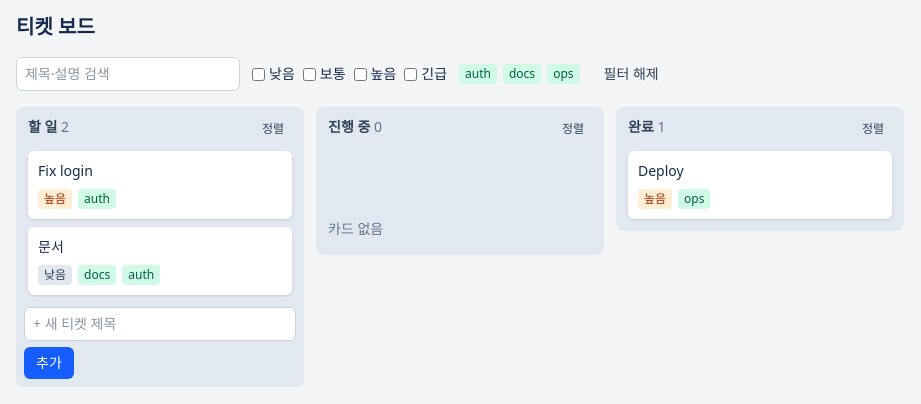
필터 바 (UI-C09) › TC-UI-049: 필터 해제를 누르면 모든 조건이 지워지고 전체 목록으로 돌아온다
Expected: the text "Fix login" is shown, [38,161,93,181]
Type "login" into the search field named "검색어".
click(128, 74); type("login")  # box [16,57,240,91]
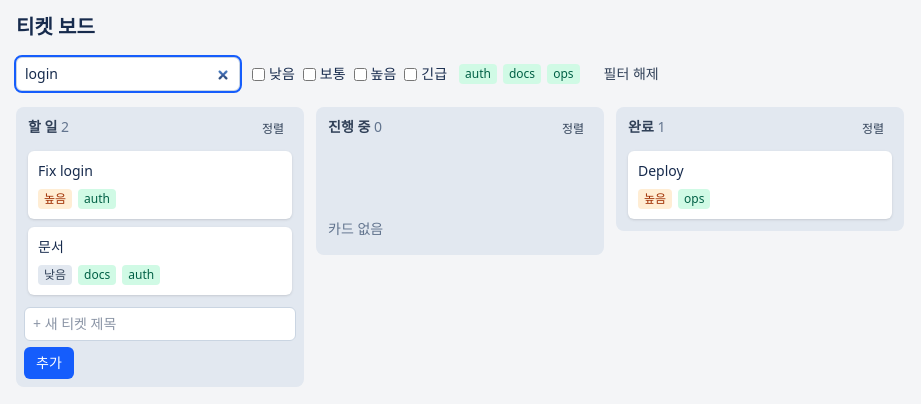
Click the checkbox labelled "높음".
click(360, 74)  # box [354,68,366,80]
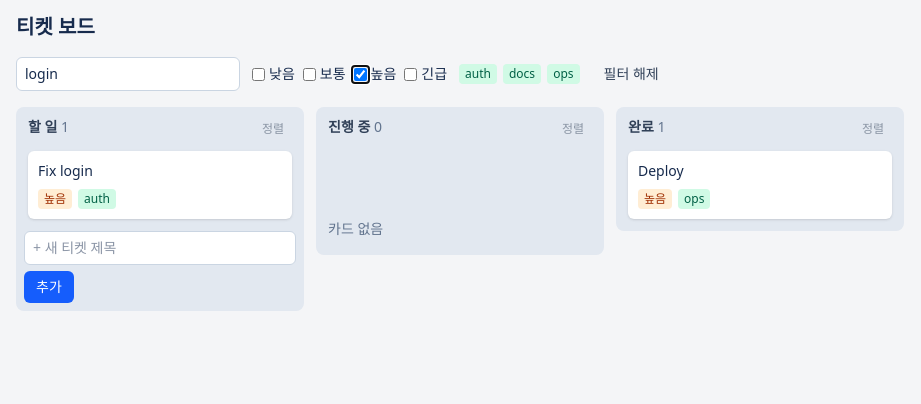
Click the button "ops".
click(563, 74)  # box [547,64,580,84]
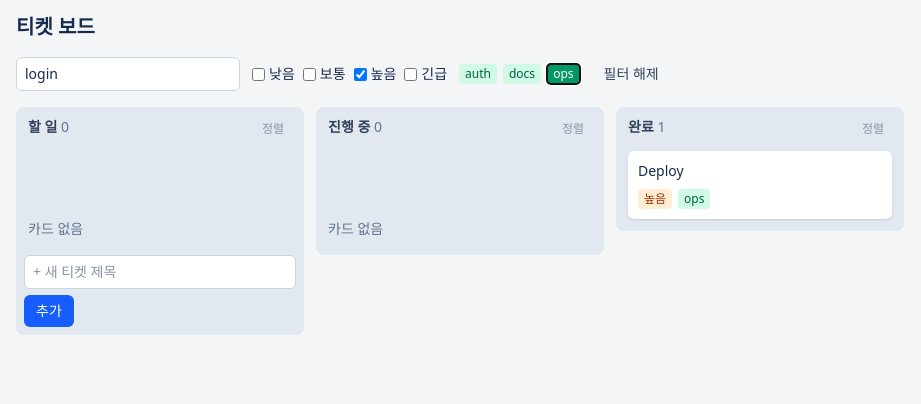
Click the button "필터 해제".
click(631, 74)  # box [592,58,671,90]
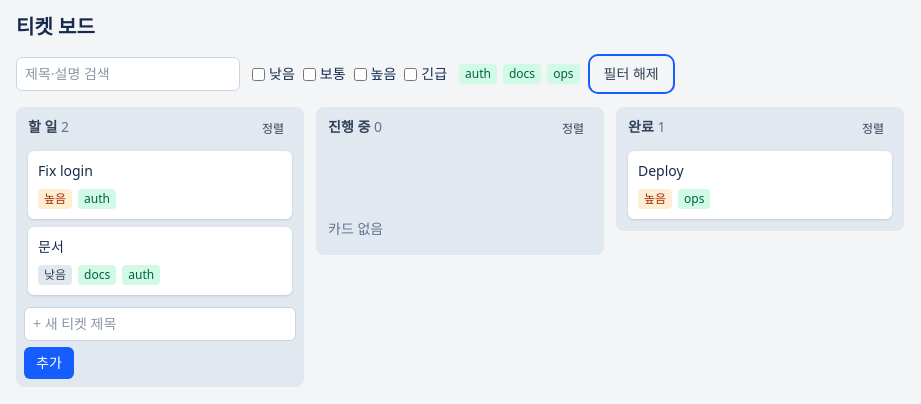
Expected: the checkbox labelled "높음" is not checked, [354,68,366,80]
Expected: the search field named "검색어" is empty, [16,57,240,91]
Expected: the text "문서" is shown, [38,237,64,257]
